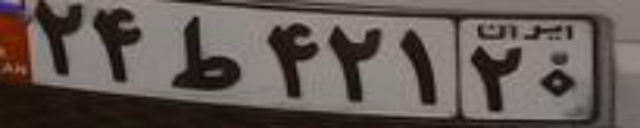0: (537, 66, 579, 98)
1: (397, 26, 438, 107)
2: (467, 43, 531, 113), (325, 25, 382, 102), (31, 0, 88, 75)
4: (90, 8, 148, 83), (265, 21, 318, 98)
taa: (168, 15, 244, 90)
